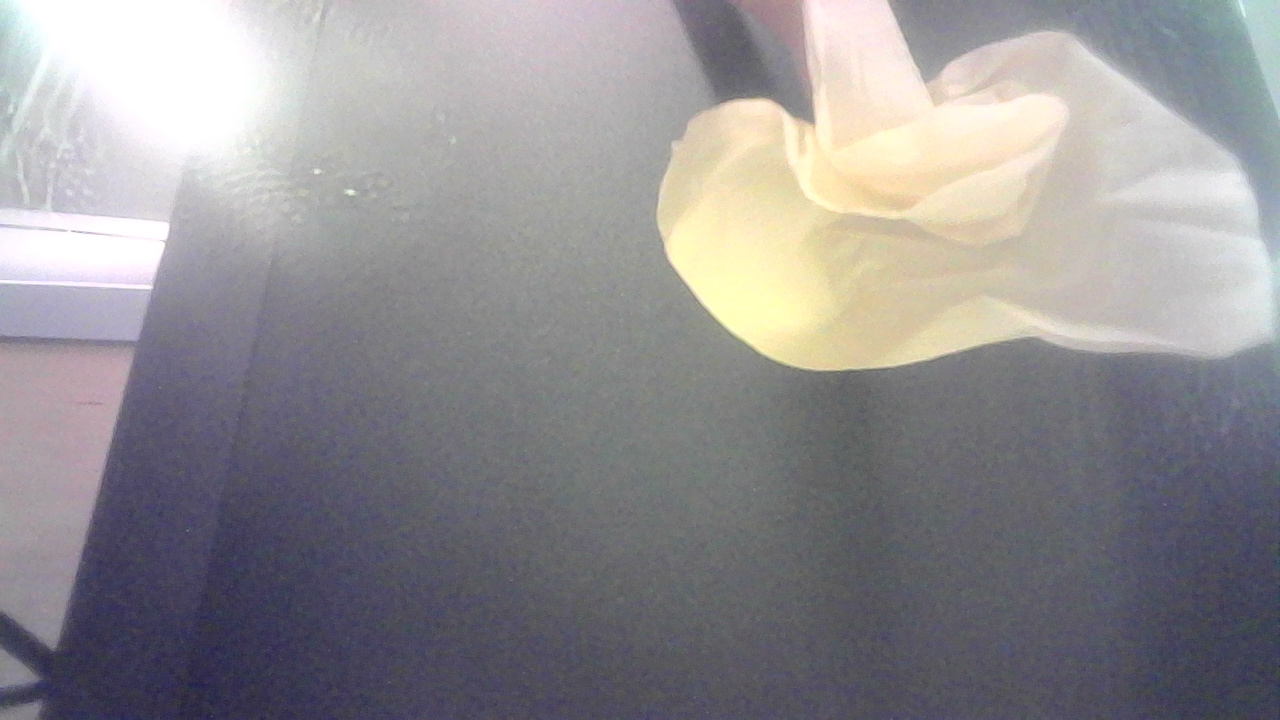Paper_Recycling: (656, 16, 1280, 392)
